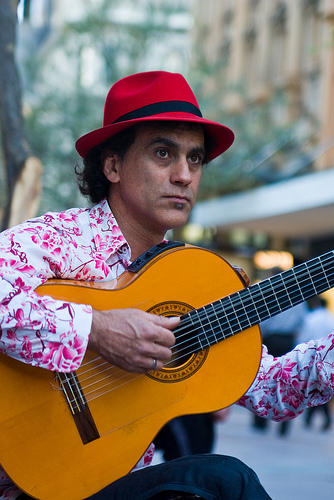guitar: (1, 240, 334, 500)
